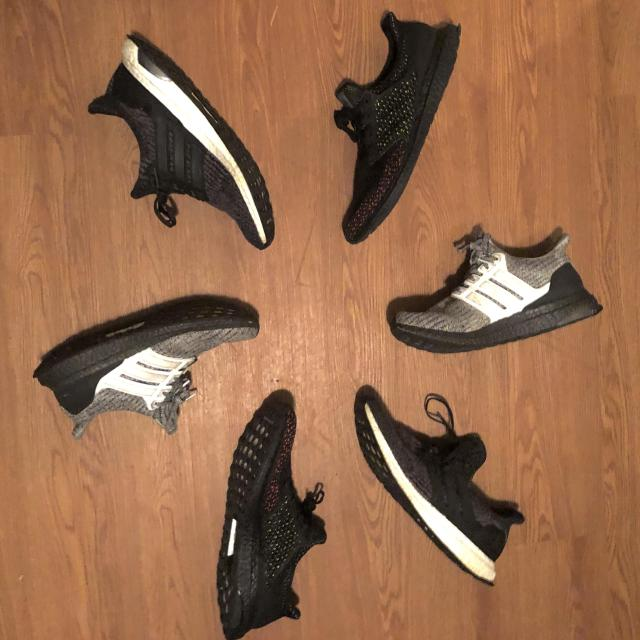shoe: (85, 30, 277, 253), (356, 390, 528, 588), (32, 296, 260, 442), (332, 10, 462, 244), (216, 394, 330, 640), (390, 228, 604, 354)
